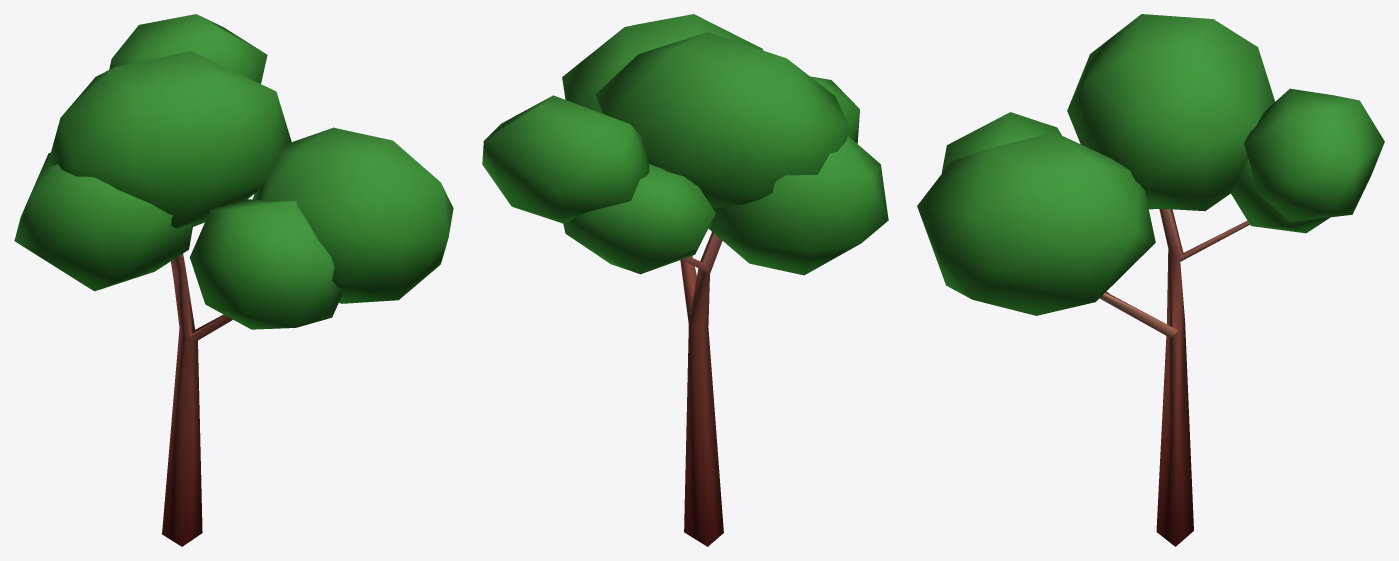
File: Tree.fbx
3 views of the same model, side by side, from view 1: azimuth 30°, elevation 25°; view 2: azimuth 150°, elevation 25°; view 3: azimuth 270°, elevation 25° (orthographic). The views are drawn at different scales.
Parts seen in each view (by area): view 1: Sphere.004; view 2: Sphere.004; view 3: Sphere.004.
Boxes of the visible parts, x1,y1,x2,y2 form: Sphere.004: (14, 14, 453, 546); Sphere.004: (482, 14, 888, 546); Sphere.004: (917, 14, 1384, 546).
Bounding box in the file's own units: 395 × 517 × 438.
